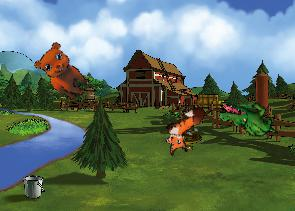bear: (29, 38, 99, 103)
crocodile: (218, 100, 278, 137)
fox: (155, 103, 217, 159)
